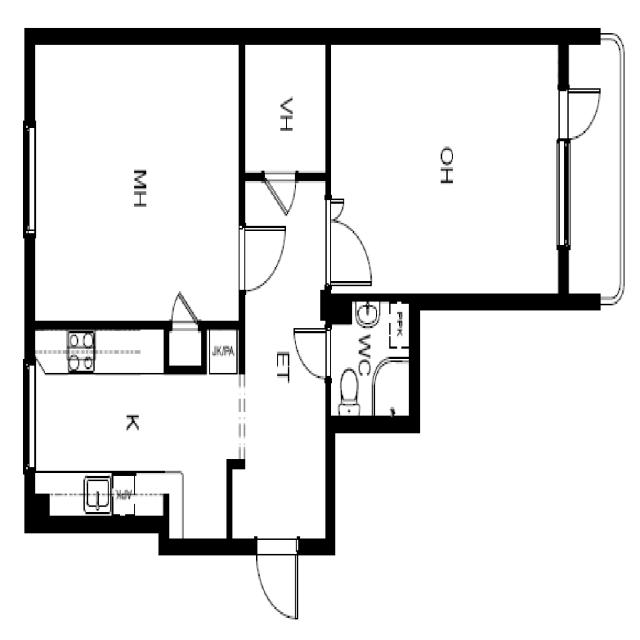door: (250, 533, 304, 626), (237, 216, 288, 299), (326, 217, 376, 287), (290, 324, 334, 382), (562, 86, 602, 140), (263, 166, 300, 217), (167, 287, 200, 330)
window: (558, 144, 573, 252), (22, 120, 35, 238), (23, 358, 35, 470)
zone: (329, 38, 563, 300), (30, 42, 242, 327), (35, 325, 239, 525), (231, 175, 330, 550), (242, 41, 328, 175), (327, 296, 412, 424), (166, 324, 203, 372)
